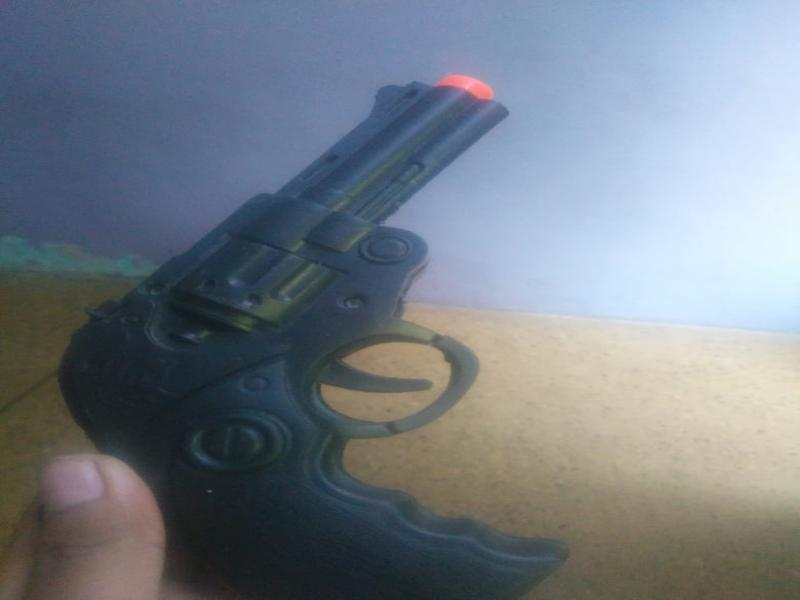gun: (53, 59, 629, 599)
